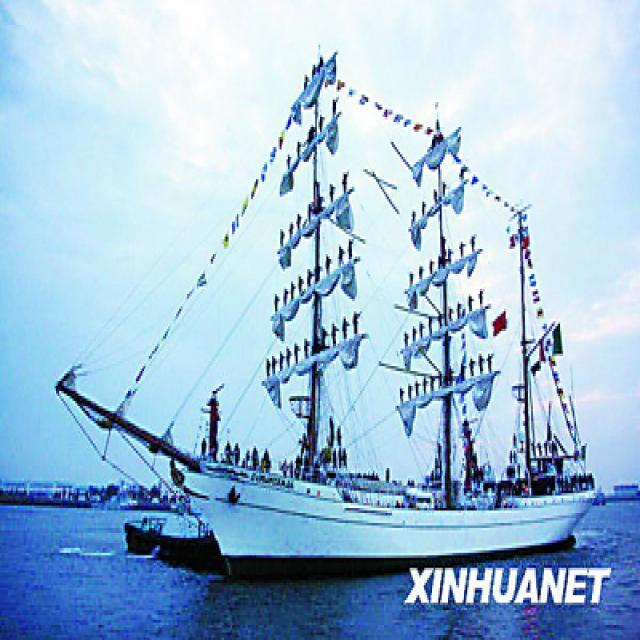Ship: (48, 50, 596, 576)
